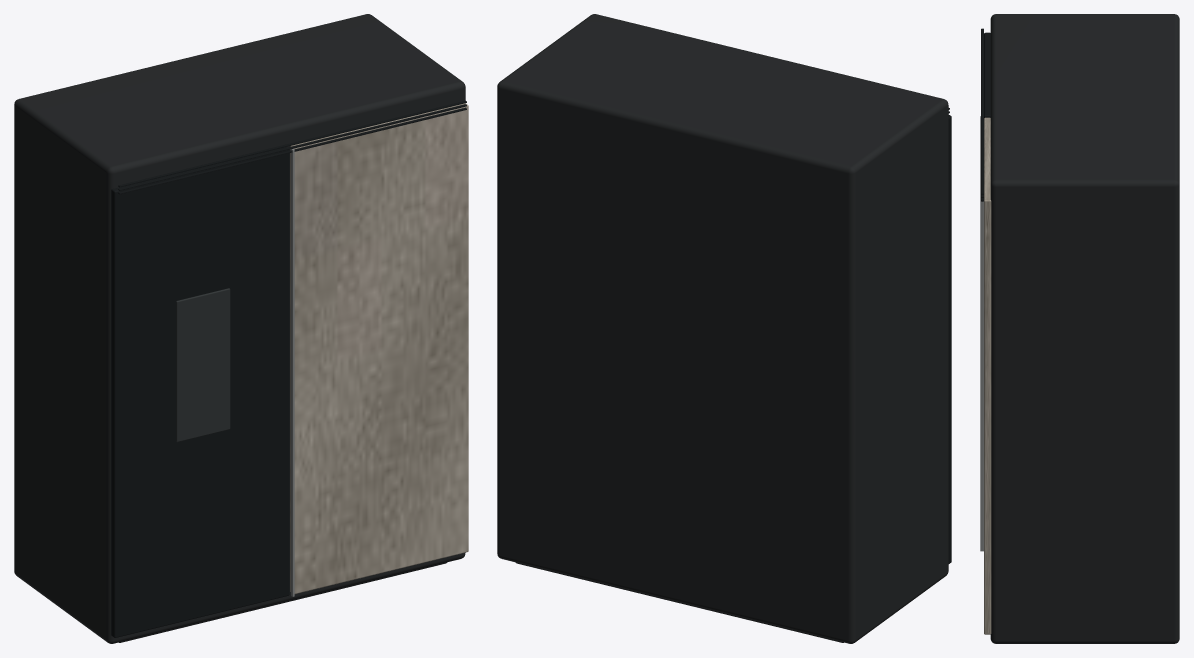
File: nordica-floriana-idro-gres-gres-ostuni.glb
3 renders of one model, left to right at view 1: azimuth 30°, elevation 25°; view 2: azimuth 150°, elevation 25°; view 3: azimuth 270°, elevation 25°, orthographic. The views are drawn at different scales.
Parts seen in each view (by area): view 1: Corpo posteriore.002, Pannello laterale.001, Porta vetro.002, Vetro focolare.001, Profilo verticale.002, Griglia superiore.004, Griglia superiore.003, Griglia superiore.005; view 2: Corpo posteriore.002, Porta vetro.002; view 3: Corpo posteriore.002, Pannello laterale.001, Profilo verticale.002, Porta vetro.002, Griglia superiore.003.
Boxes of the visible parts, x1,y1,x2,y2 form: Corpo posteriore.002: (14, 14, 465, 643); Pannello laterale.001: (290, 103, 468, 593); Porta vetro.002: (111, 147, 289, 637); Vetro focolare.001: (176, 288, 230, 441); Profilo verticale.002: (291, 148, 294, 596); Griglia superiore.004: (118, 104, 466, 190); Griglia superiore.003: (118, 100, 466, 187); Griglia superiore.005: (118, 107, 466, 194); Corpo posteriore.002: (497, 14, 948, 643); Porta vetro.002: (948, 115, 951, 563); Corpo posteriore.002: (990, 14, 1179, 643); Pannello laterale.001: (984, 117, 991, 634); Profilo verticale.002: (980, 116, 983, 551); Porta vetro.002: (984, 32, 990, 117); Griglia superiore.003: (981, 28, 983, 194).
Size of the model in its own units: 0.854 by 1.1 by 0.424.
5 materials, 1 textured.
